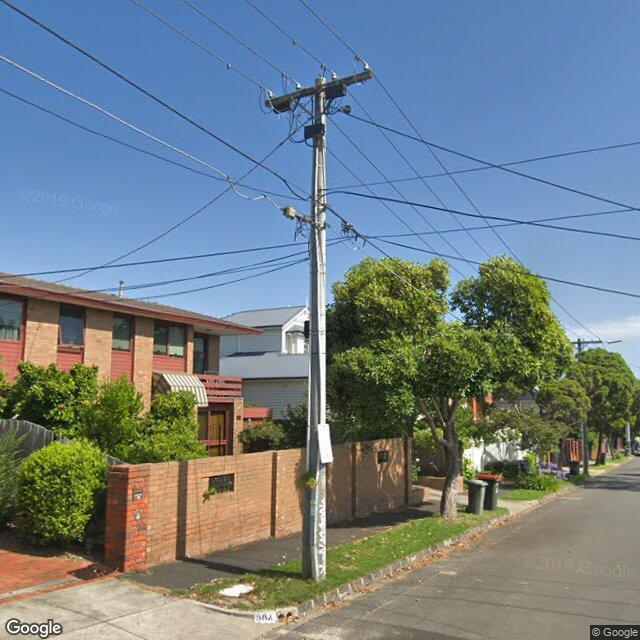crossarm: (266, 70, 374, 106), (568, 340, 602, 344)
timber-pole: (302, 76, 326, 584), (577, 338, 588, 475)
